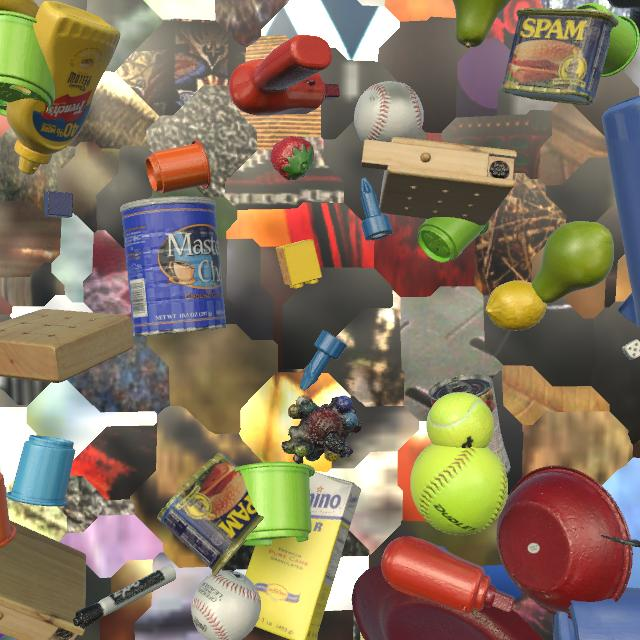ycb_002_master_chef_can: (120, 196, 227, 336)
ycb_004_sugar_box: (245, 472, 361, 640)
ycb_005_tomato_soup_can: (429, 374, 510, 475)
ycb_006_mustard_bottle: (6, 1, 120, 175)
ycb_010_potted_meat_can: (157, 452, 264, 577), (501, 8, 619, 105)
ycb_011_banana: (0, 0, 39, 18)
ycb_012_strawberry: (270, 136, 314, 180)
ycb_014_lemon: (486, 280, 547, 331)
ycb_016_pear: (532, 221, 614, 303), (453, 0, 511, 48)
